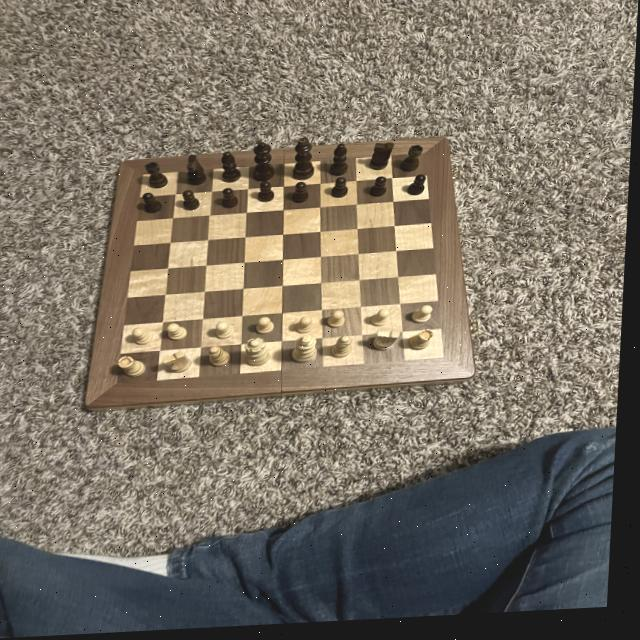bishop: (220, 152, 245, 190), (328, 145, 352, 181)
black-bishop: (291, 137, 320, 186)
black-king: (367, 145, 398, 177), (184, 156, 212, 191)
black-knight: (141, 192, 166, 217), (406, 178, 431, 202), (329, 180, 353, 205), (181, 191, 205, 216), (369, 179, 392, 203), (256, 182, 278, 207), (291, 184, 313, 208), (221, 189, 242, 212)
black-pawn: (251, 144, 279, 187)
black-queen: (398, 147, 427, 180), (145, 162, 171, 192)
black-rook: (209, 345, 239, 372), (333, 337, 357, 365)
white-bishop: (291, 338, 324, 370)
white-king: (164, 350, 201, 379), (370, 333, 406, 357)
white-knight: (412, 308, 441, 330), (370, 311, 400, 332), (256, 318, 281, 339), (168, 323, 193, 344), (133, 327, 158, 348), (327, 314, 352, 334), (218, 323, 240, 344), (297, 318, 319, 338)
white-pawn: (244, 340, 280, 372)
white-queen: (118, 354, 151, 381), (410, 332, 440, 357)
